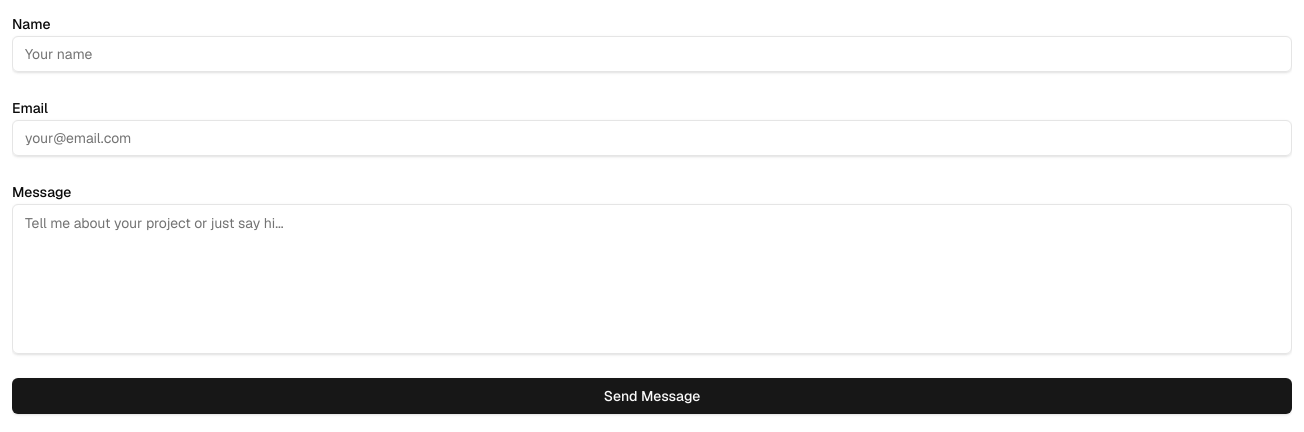
Test case: ContactForm › should submit form successfully
// Fill out form
In the field labelled "Name": {"x": 652, "y": 54} left=12, top=36, right=1292, bottom=72, type "John Doe"
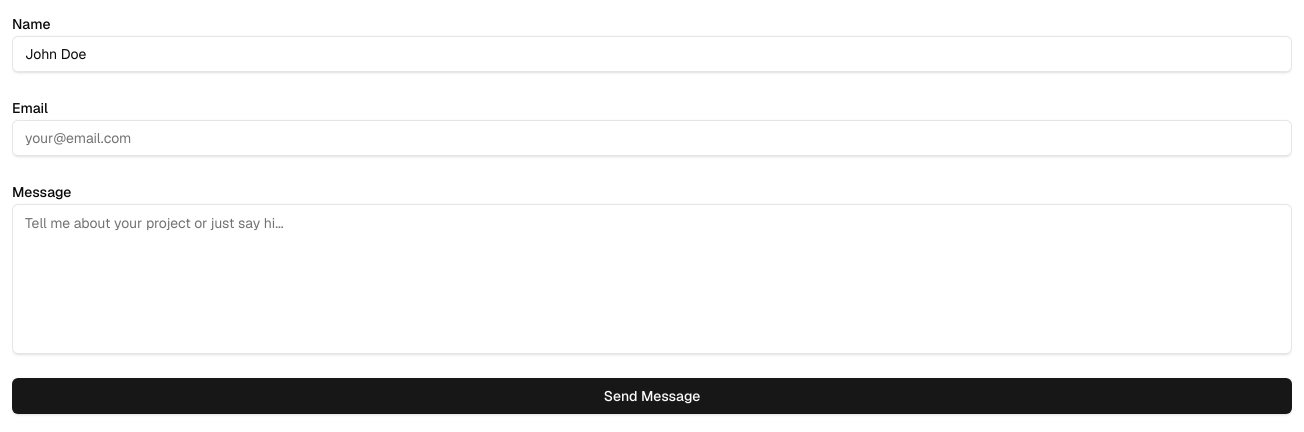
In the field labelled "Email": {"x": 652, "y": 138} left=12, top=120, right=1292, bottom=156, type "john@example.com"
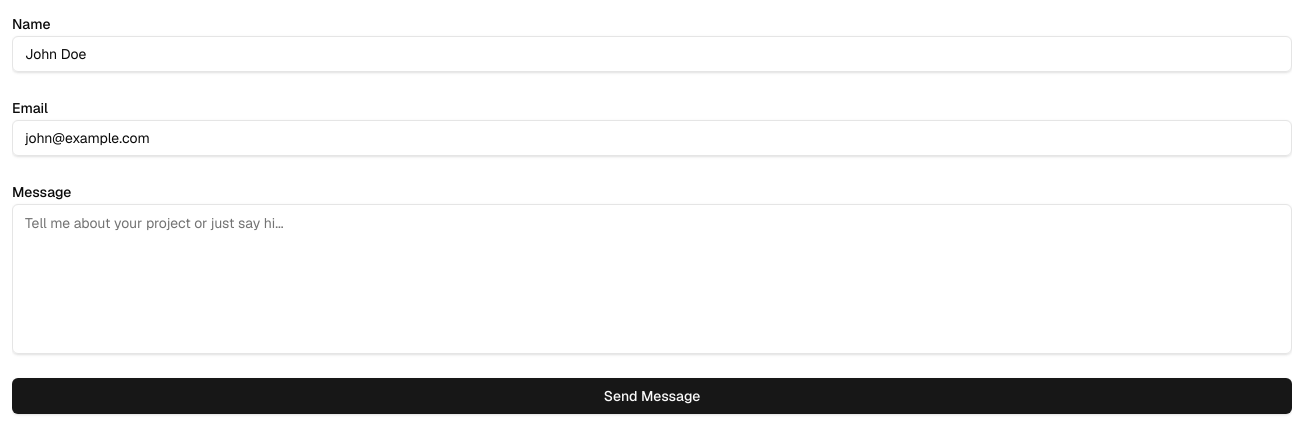
In the text box labelled "Message": {"x": 652, "y": 279} left=12, top=204, right=1292, bottom=354, type "This is a test message"
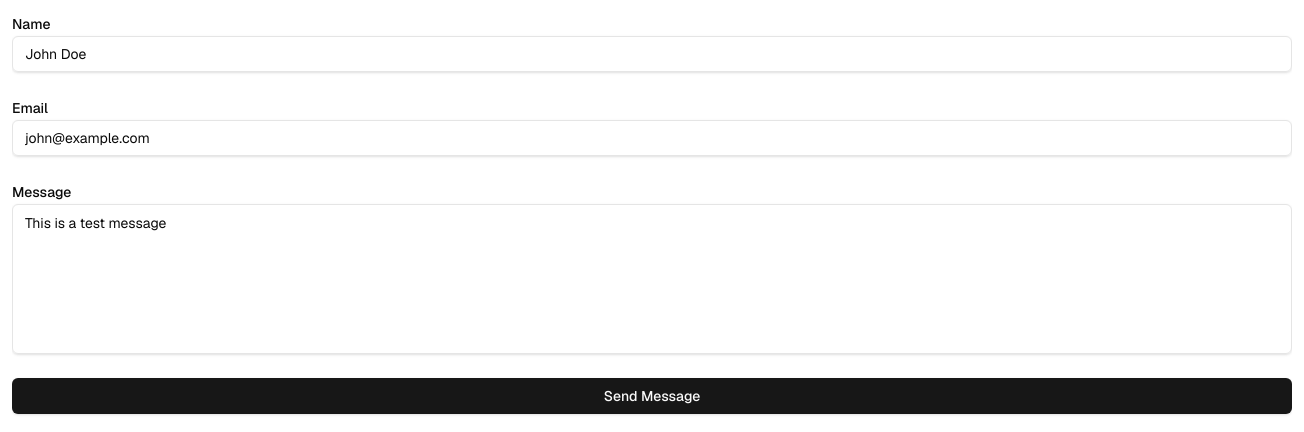
// Submit form
Click the button "Send Message": {"x": 652, "y": 396} left=12, top=378, right=1292, bottom=414
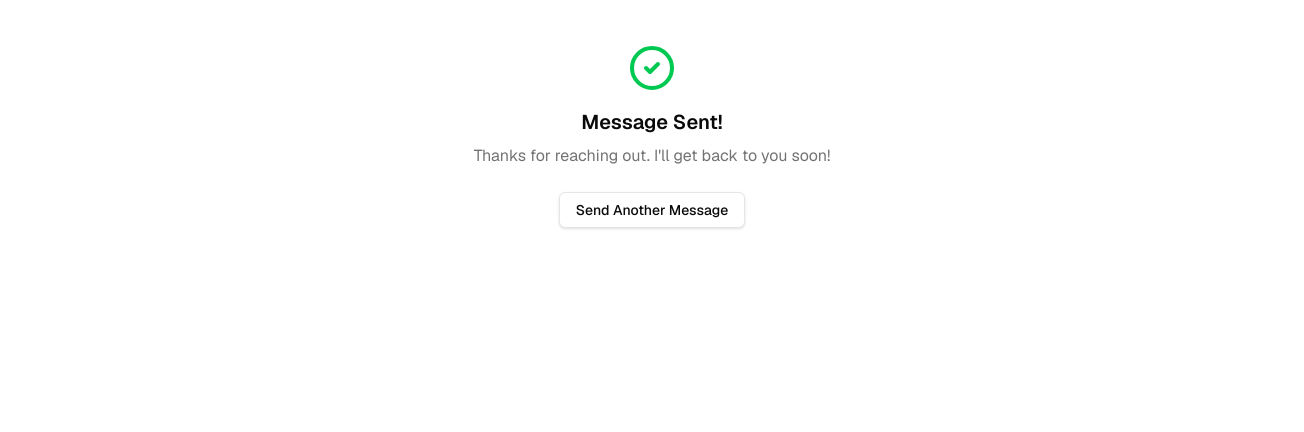
Check: the heading "Message Sent!" is shown, box left=581, top=109, right=723, bottom=135
